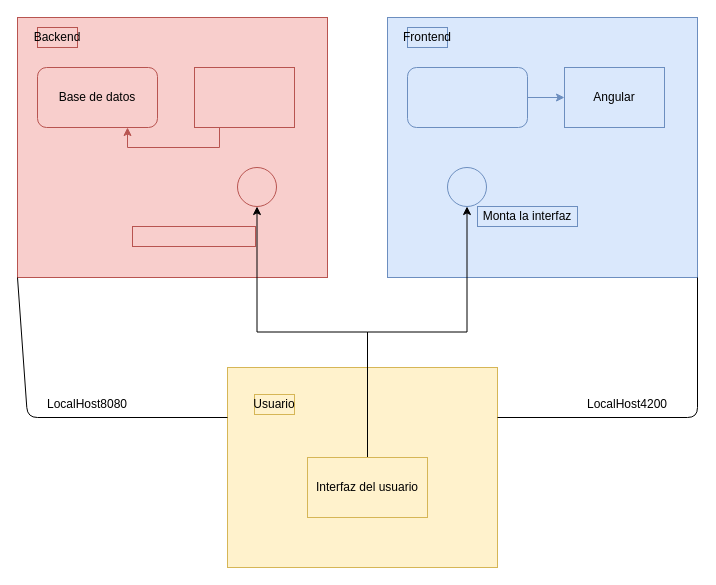
This 716x585 diagram has some shape labels left out. Here are the shapes that lost their labels. From the top down, the centre of each, then its label:
pixel 244 97: Servlets
pixel 467 97: Interfaz de usuario
pixel 194 236: Monta la información
